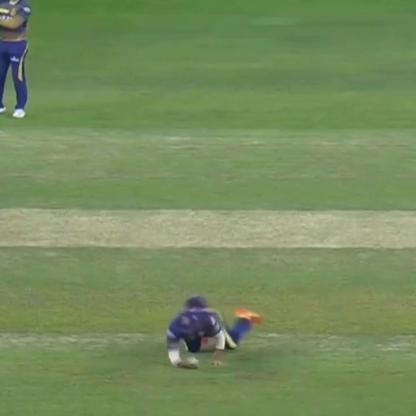ball: (186, 352, 201, 368)
